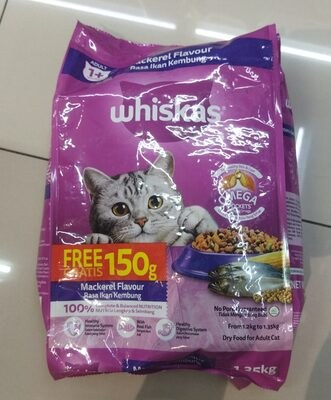CAT FOOD WHISKAS MAKEREL 1.2KG: (17, 20, 314, 380)
